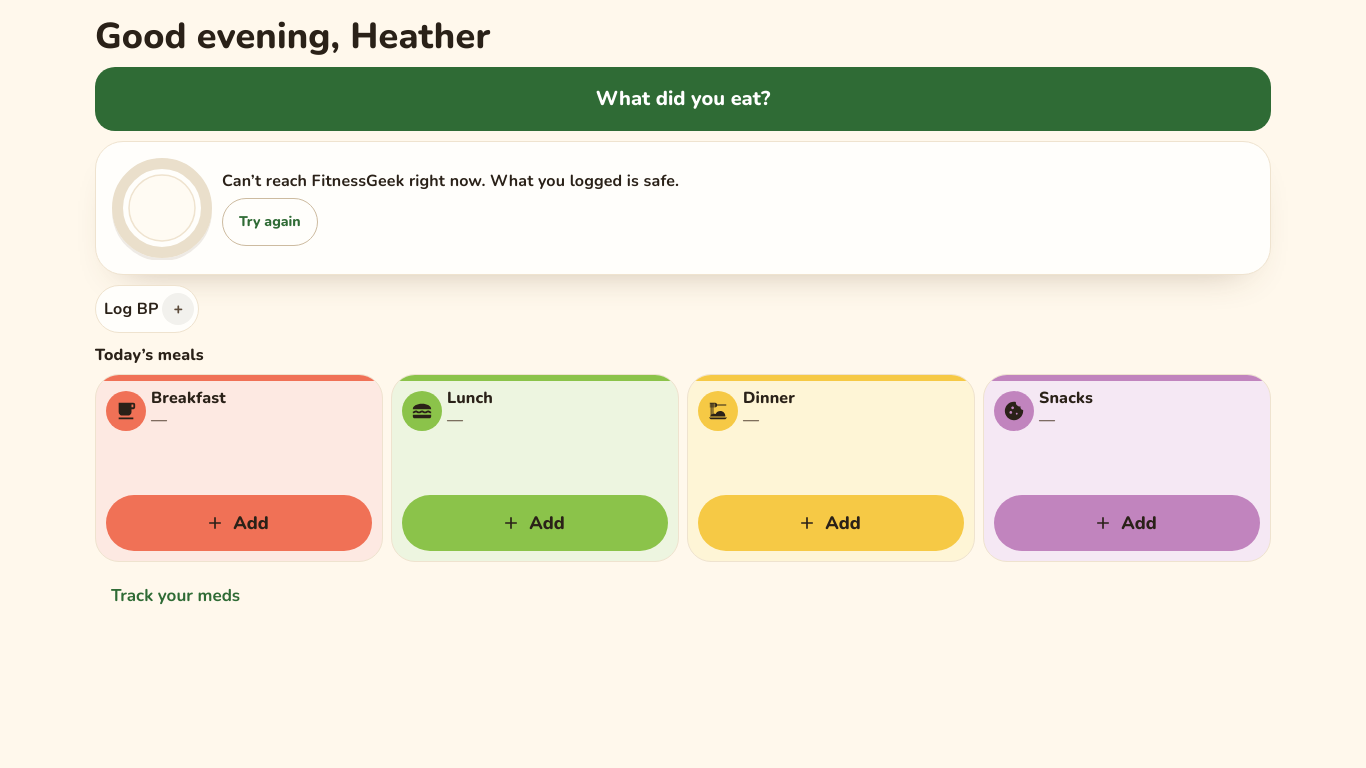
Test: Home on a failed load (L1) › Try again reads the day again, and the sentence comes back
The image size is (1366, 768).
Click the button "Try again" at (270, 222), box left=222, top=198, right=318, bottom=246
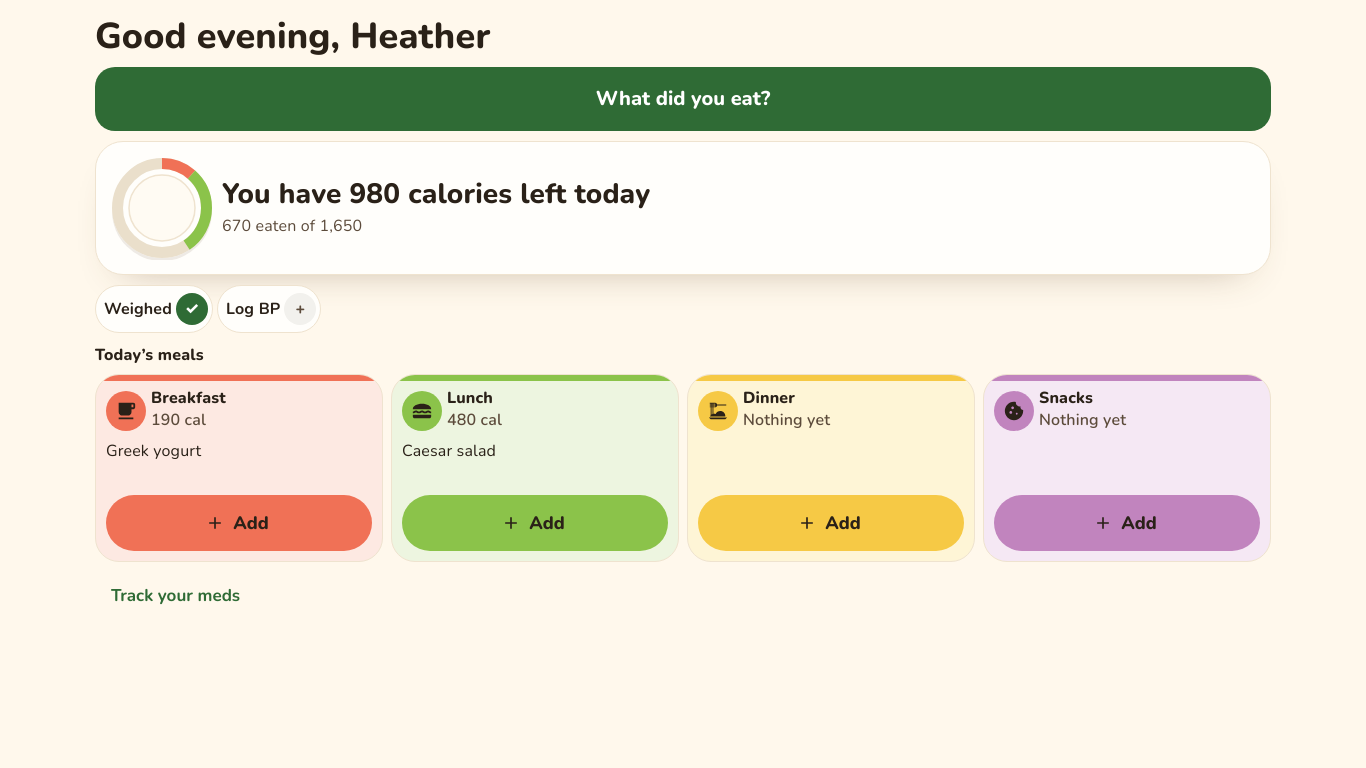
Expected: the heading with test id "calories-sentence" reads "You have 980 calories left today", left=222, top=175, right=650, bottom=213
Expected: the message with test id "home-load-problem" is gone
Expected: the text "Greek yogurt" is shown, left=106, top=440, right=201, bottom=462
